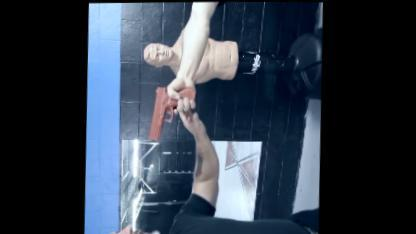pistol: (148, 84, 198, 141)
